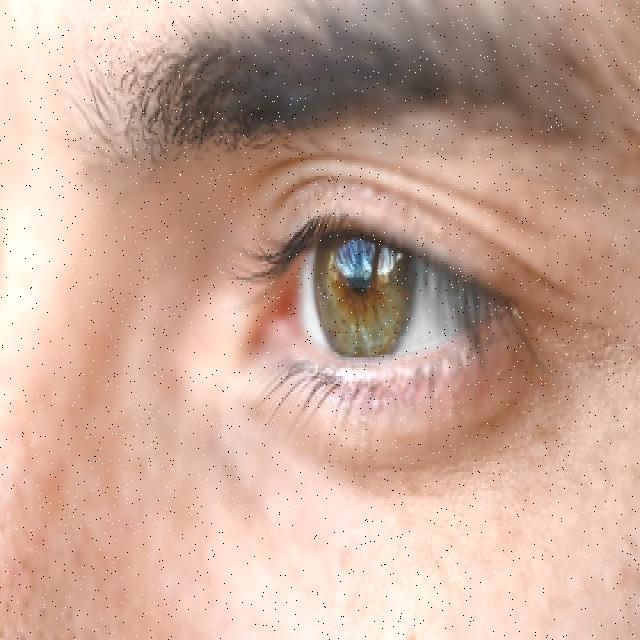Normal: (136, 138, 632, 514)
